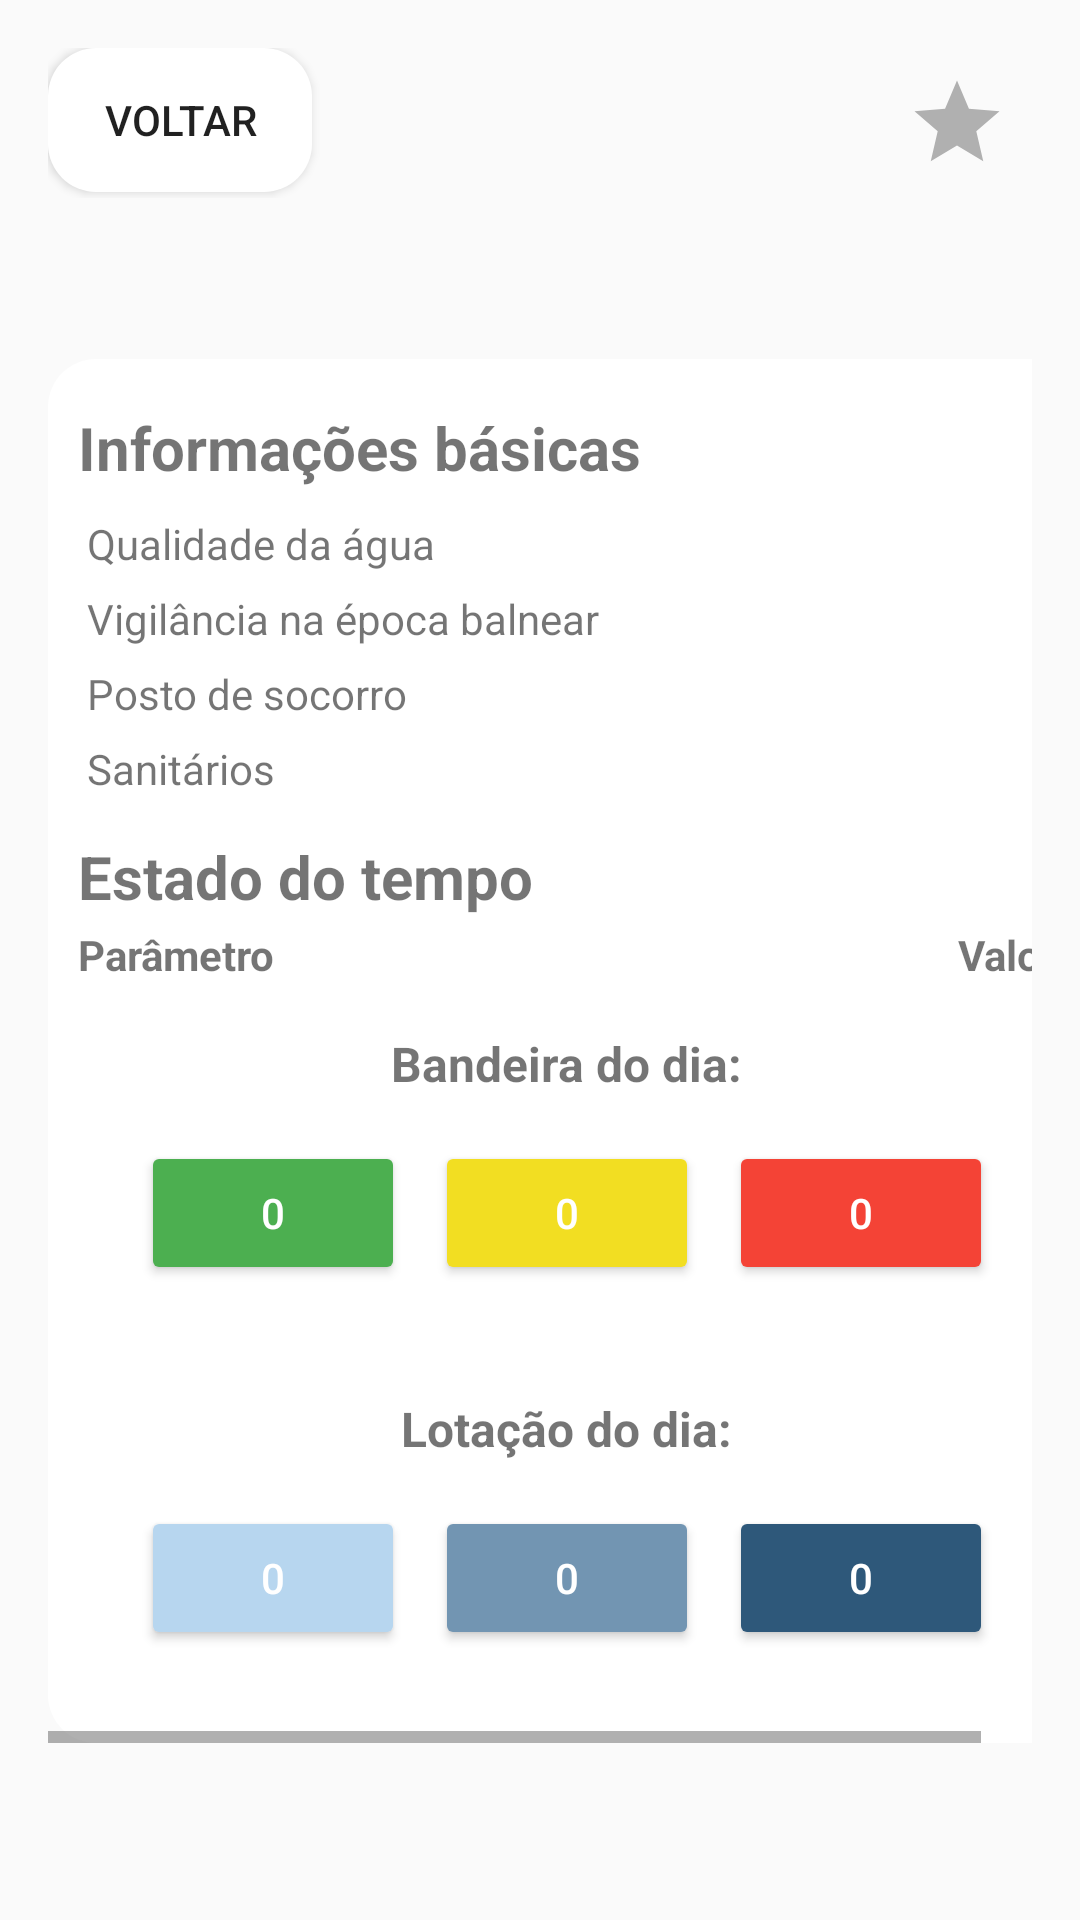

Screen size 1080×1920. Icon name, then its box in pixels as (x1, y1, x2, y2):
Favorite Icon: (915, 81, 999, 161)
